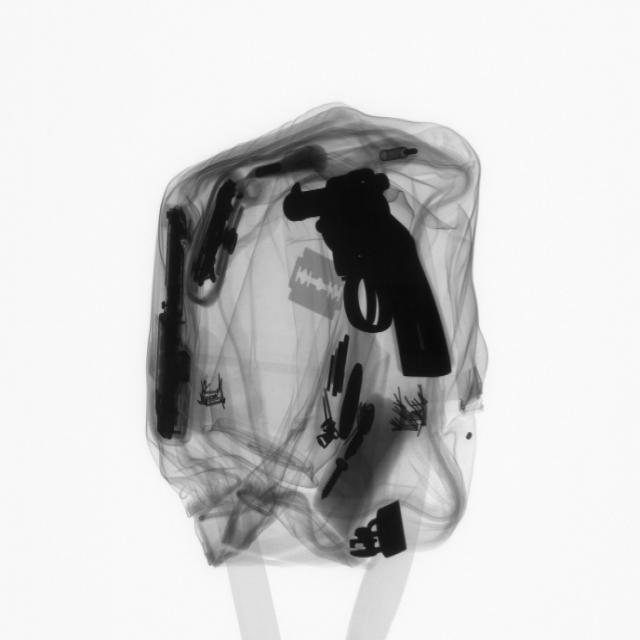BLADE: (286, 245, 348, 328)
GUN: (293, 166, 460, 388)
SCREW: (309, 457, 355, 506)
